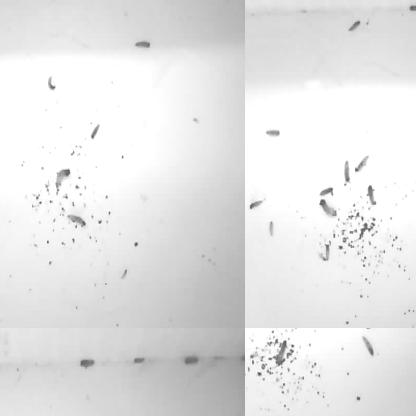PtecticusTenebrifer: (54, 167, 70, 190), (360, 334, 375, 356), (319, 200, 337, 218), (354, 154, 369, 174), (68, 213, 87, 227), (89, 122, 101, 140), (183, 354, 201, 366), (367, 184, 376, 206), (249, 198, 264, 210), (347, 20, 362, 32), (245, 243, 253, 265), (135, 40, 152, 50), (319, 186, 334, 197), (265, 128, 280, 139), (46, 76, 56, 92), (78, 359, 95, 368), (344, 161, 350, 184), (269, 219, 275, 242), (268, 328, 291, 334), (245, 63, 251, 84), (245, 366, 255, 378), (245, 334, 252, 351), (324, 243, 330, 261), (0, 361, 9, 373), (245, 188, 253, 201), (0, 14, 8, 26), (333, 328, 351, 333), (390, 328, 402, 335), (35, 0, 53, 4), (134, 358, 146, 364), (245, 328, 251, 338), (245, 328, 248, 347), (364, 328, 378, 332), (245, 11, 250, 22), (410, 4, 416, 13), (245, 328, 252, 335), (0, 199, 6, 207)
